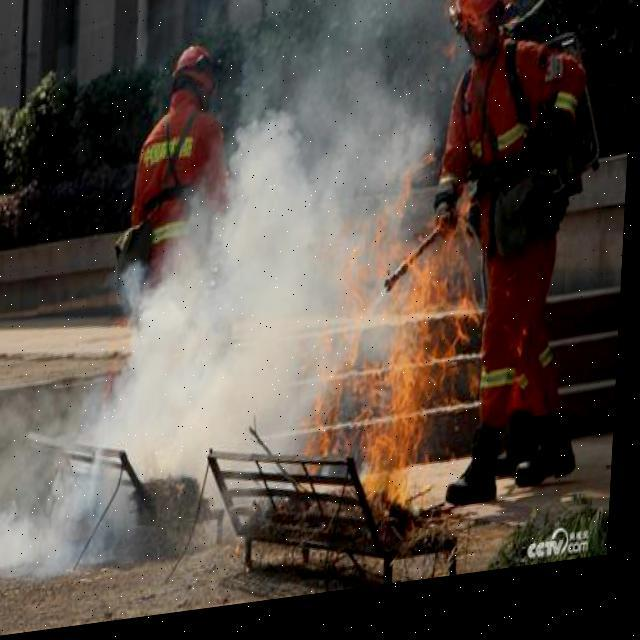Fire: (314, 172, 484, 540)
